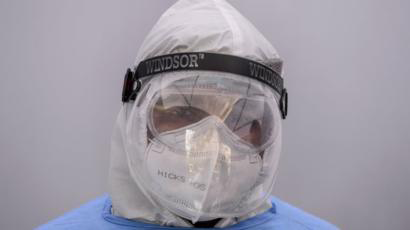Face_Shield: (117, 50, 289, 219)
Goggles: (143, 81, 282, 158)
with_mask: (143, 103, 271, 219)
